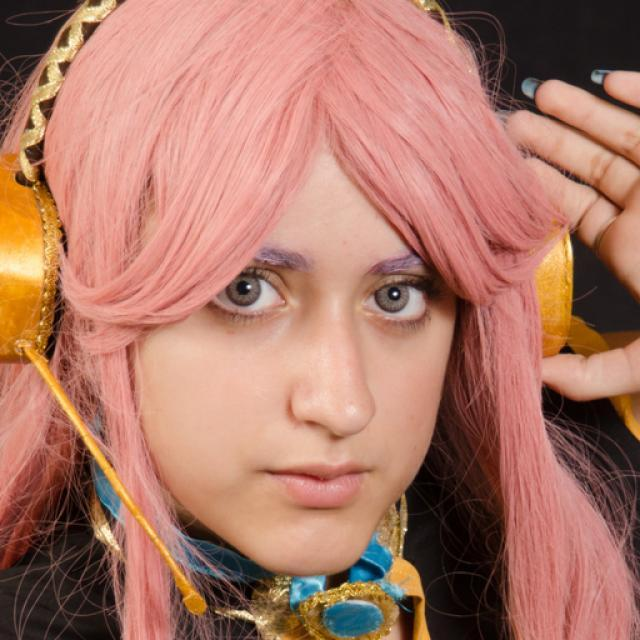neutral: (135, 68, 458, 576)
